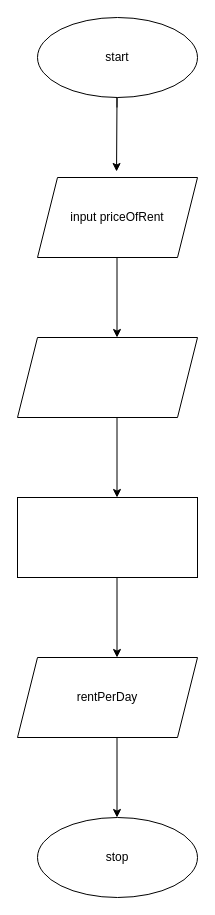
The diagram is 215 pixels wide and 915 high, and some of its shapes have lost their labels. The shapes that lost their labels are listed below. From the top down, each one's centre as x and y in pixels, then its label:
At point (107, 377): "input numberOfDaysInMonth".
At point (107, 537): "rent perDay = priceOfRent / numberOfDaysInMonth".
